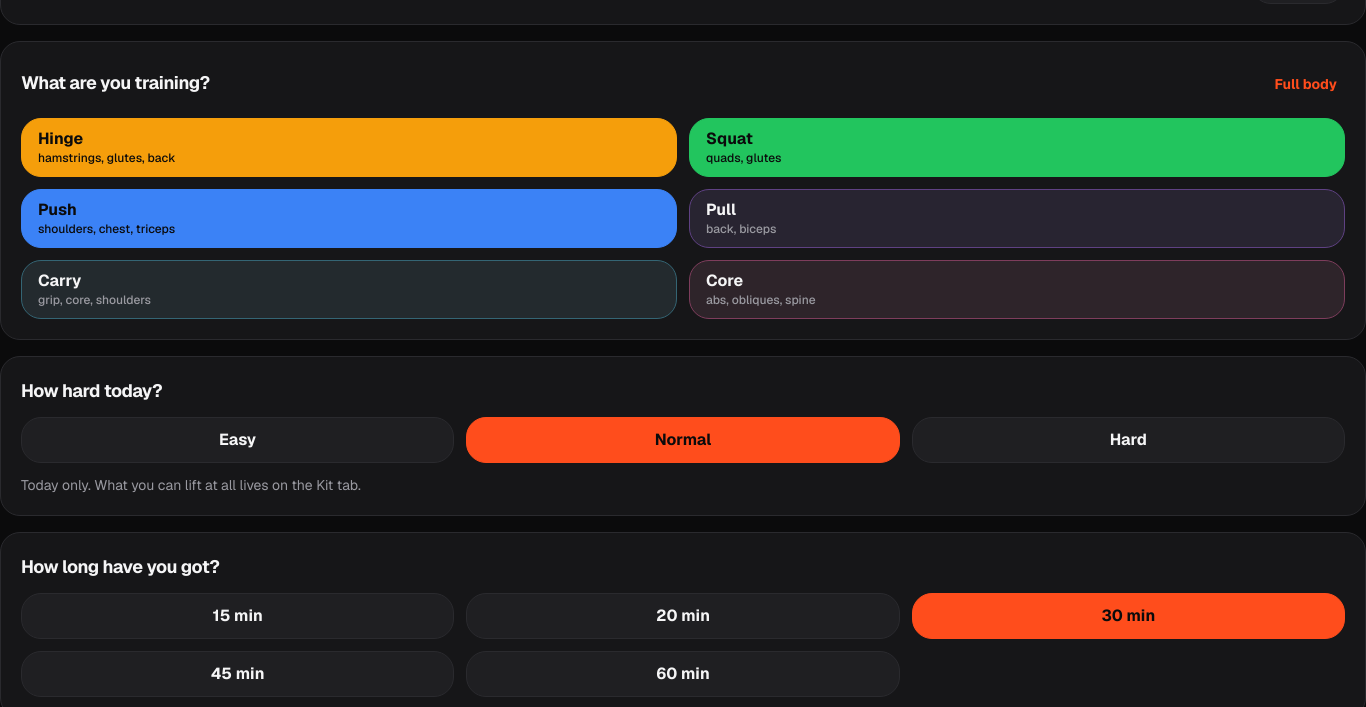
Scenario: SetupForm › warns when the pool cannot train a requested pattern
Click the button "Carry grip, core, shoulders": (60, 280) x1=21 y1=260 x2=677 y2=319
(page scrolled)
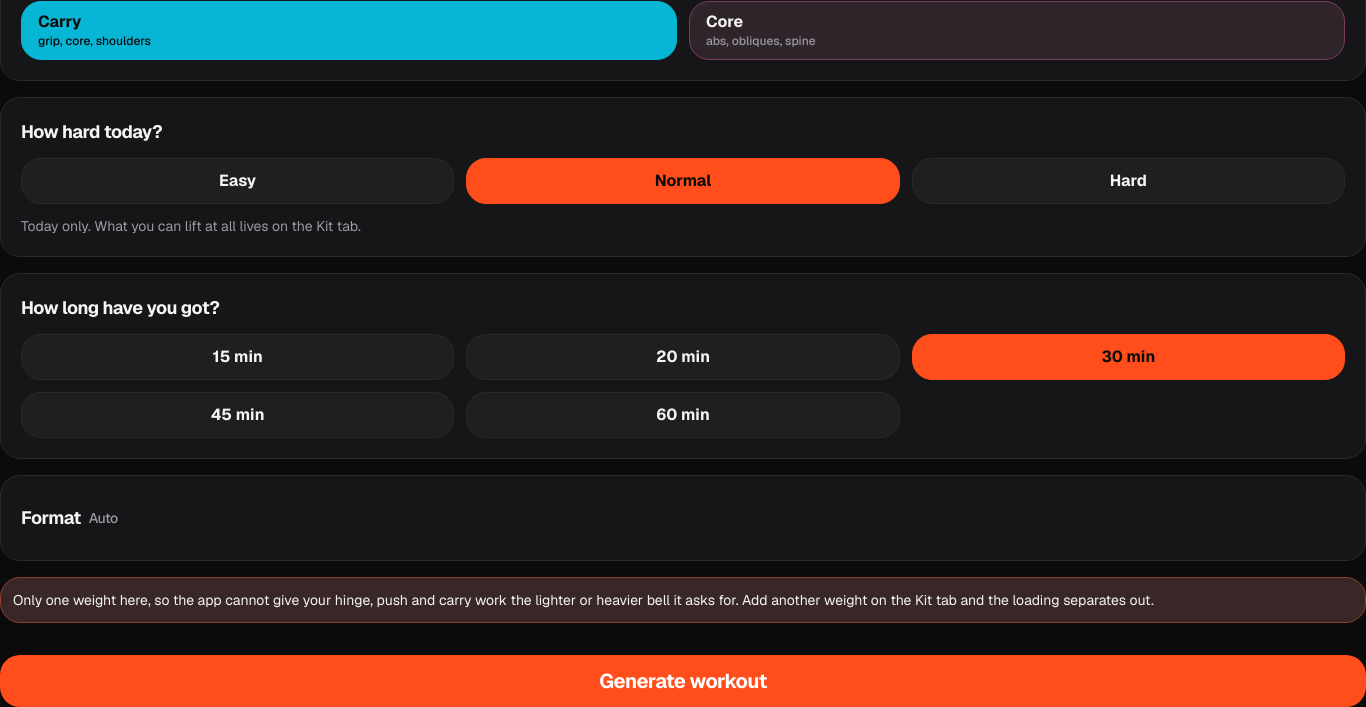
Expected: the message shows "carry", x1=303 y1=591 x2=742 y2=609
